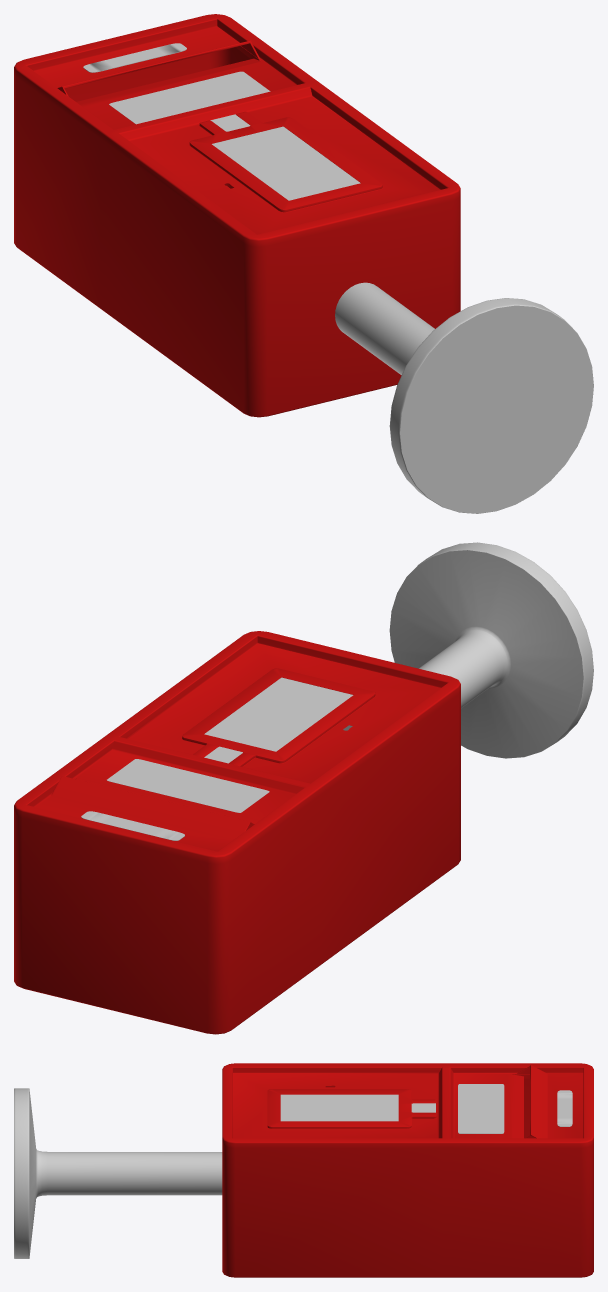
The model's file is PostBox_Body_Cube.obj.
3 renders of one model, top to bottom at view 1: azimuth 30°, elevation 25°; view 2: azimuth 150°, elevation 25°; view 3: azimuth 270°, elevation 25°, orthographic. The views are drawn at different scales.
Visible parts, largest first — view 1: PostBox_Body_Cube; view 2: PostBox_Body_Cube; view 3: PostBox_Body_Cube.
Part boxes in pixels (x1=…): PostBox_Body_Cube: x1=14, y1=14, x2=593, y2=513; PostBox_Body_Cube: x1=14, y1=542, x2=593, y2=1034; PostBox_Body_Cube: x1=14, y1=1063, x2=593, y2=1277.
Size of the model in its own units: 143 by 130 by 441.
